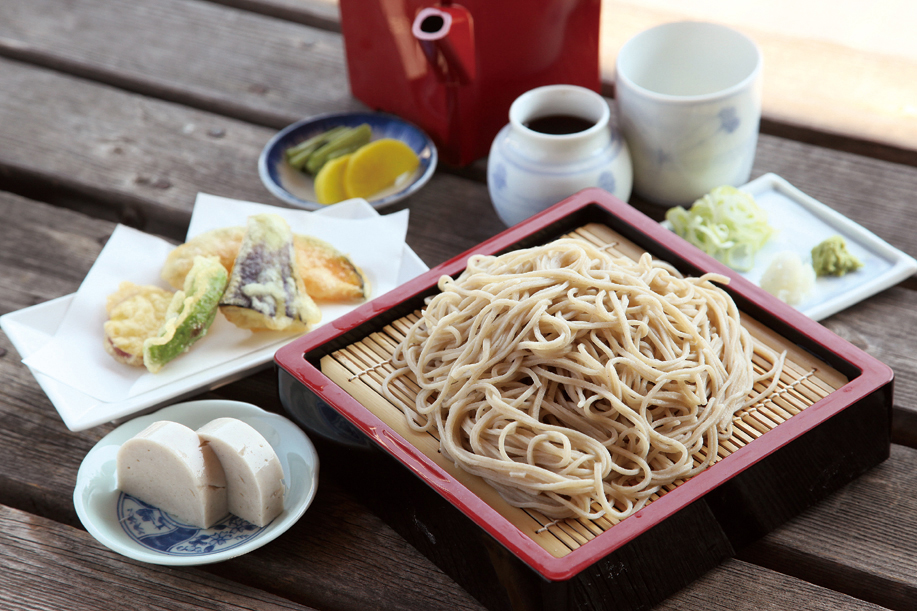Soba: (396, 239, 766, 527)
